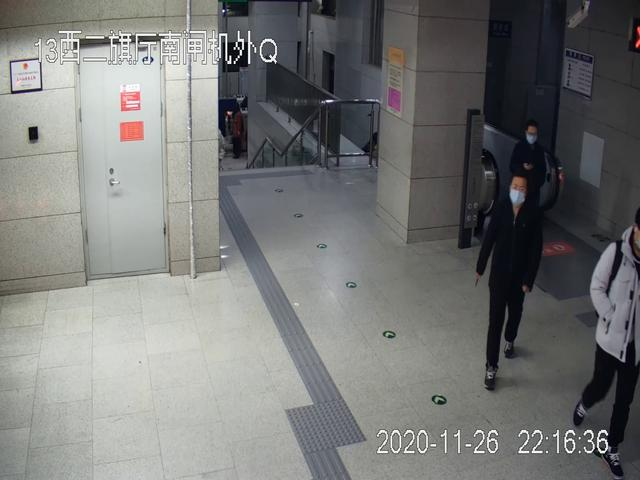person: (574, 208, 640, 480), (475, 173, 541, 391), (509, 120, 546, 267)
